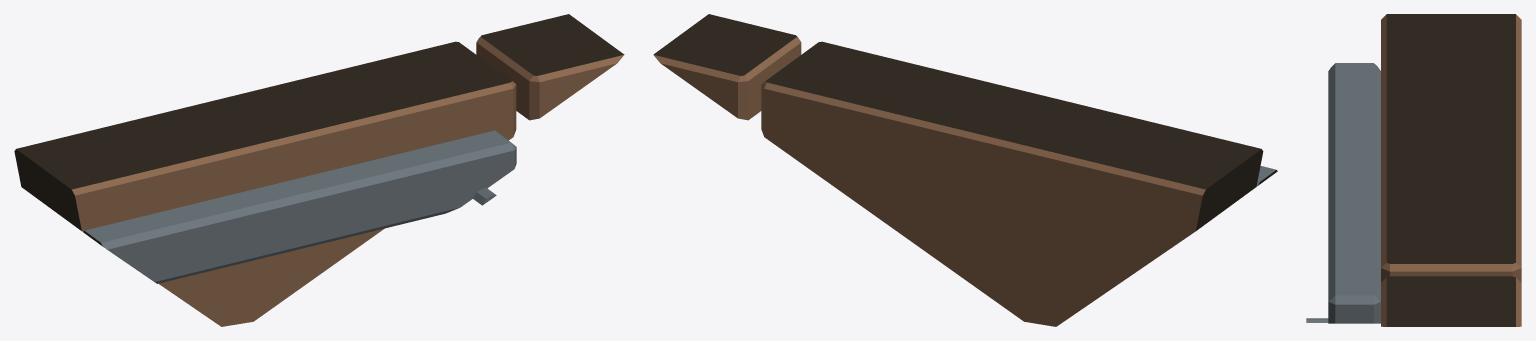
Rendered from SM_DoorShard_01_26.fbx.
3 views of the same model, side by side, from view 1: azimuth 30°, elevation 25°; view 2: azimuth 150°, elevation 25°; view 3: azimuth 270°, elevation 25° (orthographic). The views are drawn at different scales.
Parts seen in each view (by area): view 1: SM_DoorShard_01_26; view 2: SM_DoorShard_01_26; view 3: SM_DoorShard_01_26.
Part boxes in pixels (x1=…): SM_DoorShard_01_26: x1=14, y1=14, x2=624, y2=326; SM_DoorShard_01_26: x1=653, y1=14, x2=1277, y2=326; SM_DoorShard_01_26: x1=1306, y1=14, x2=1521, y2=326.
Bounding box in the file's own units: 84.33 × 24.5 × 25.38.
